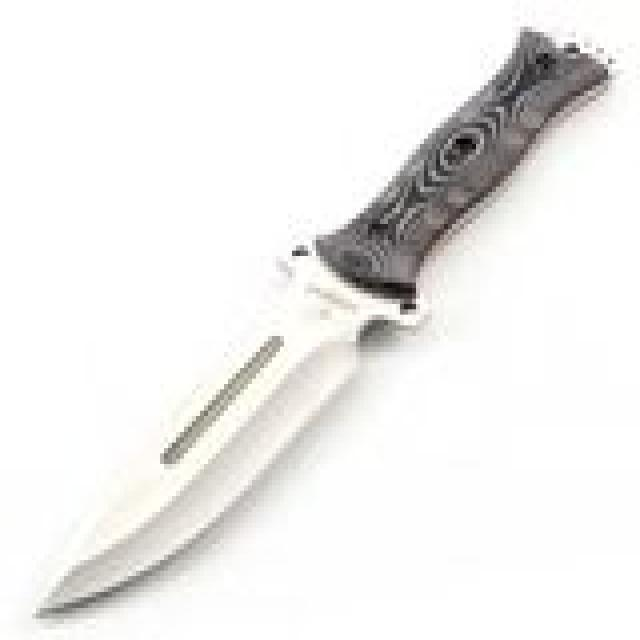Knife: (21, 29, 616, 640)
